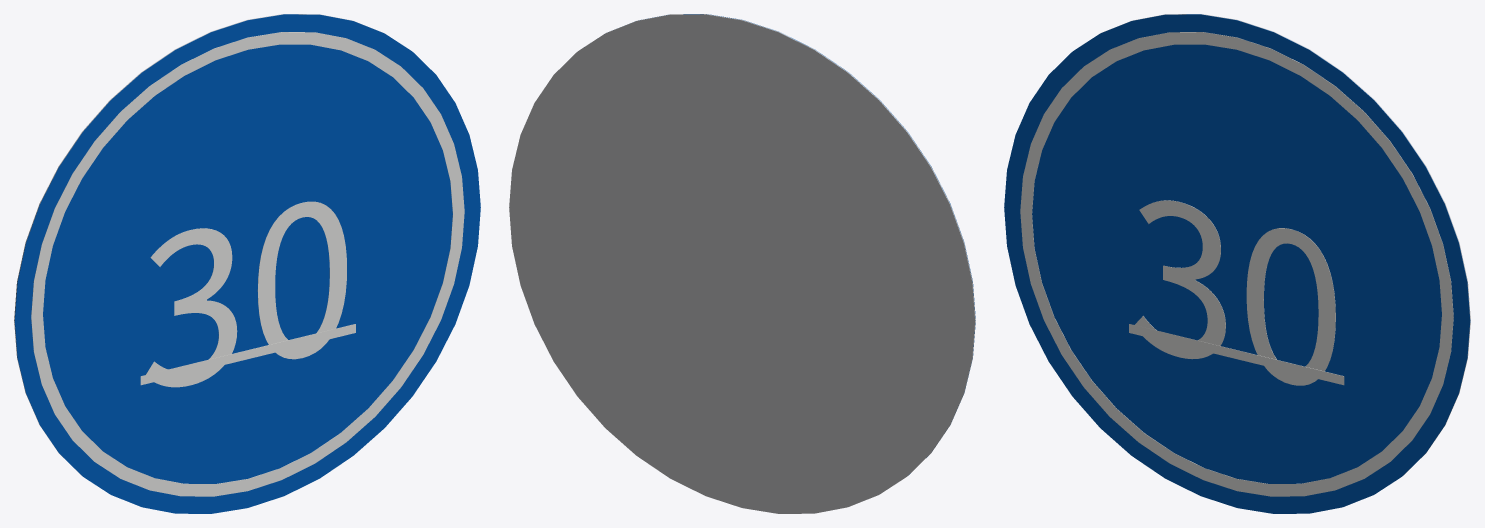
The picture shows the model from 3 angles, left to right: view 1: azimuth 30°, elevation 25°; view 2: azimuth 150°, elevation 25°; view 3: azimuth 330°, elevation 25°; orthographic projection.
Parts seen in each view (by area): view 1: B25_d00, B25_o01, B25_txt02, B25_p03, B25_dos; view 2: B25_dos; view 3: B25_d00, B25_o01, B25_txt02, B25_p03, B25_dos.
Part boxes in pixels (bbox=[...]): B25_d00: bbox=[14, 14, 480, 513]; B25_o01: bbox=[31, 32, 464, 496]; B25_txt02: bbox=[146, 201, 346, 387]; B25_p03: bbox=[140, 324, 355, 385]; B25_dos: bbox=[14, 14, 383, 475]; B25_dos: bbox=[509, 14, 975, 513]; B25_d00: bbox=[1004, 14, 1470, 513]; B25_o01: bbox=[1020, 32, 1453, 496]; B25_txt02: bbox=[1135, 200, 1335, 385]; B25_p03: bbox=[1129, 324, 1344, 385]; B25_dos: bbox=[1101, 14, 1470, 475].
Size of the model in its own units: 0.65 by 0.65 by 0.0029.
